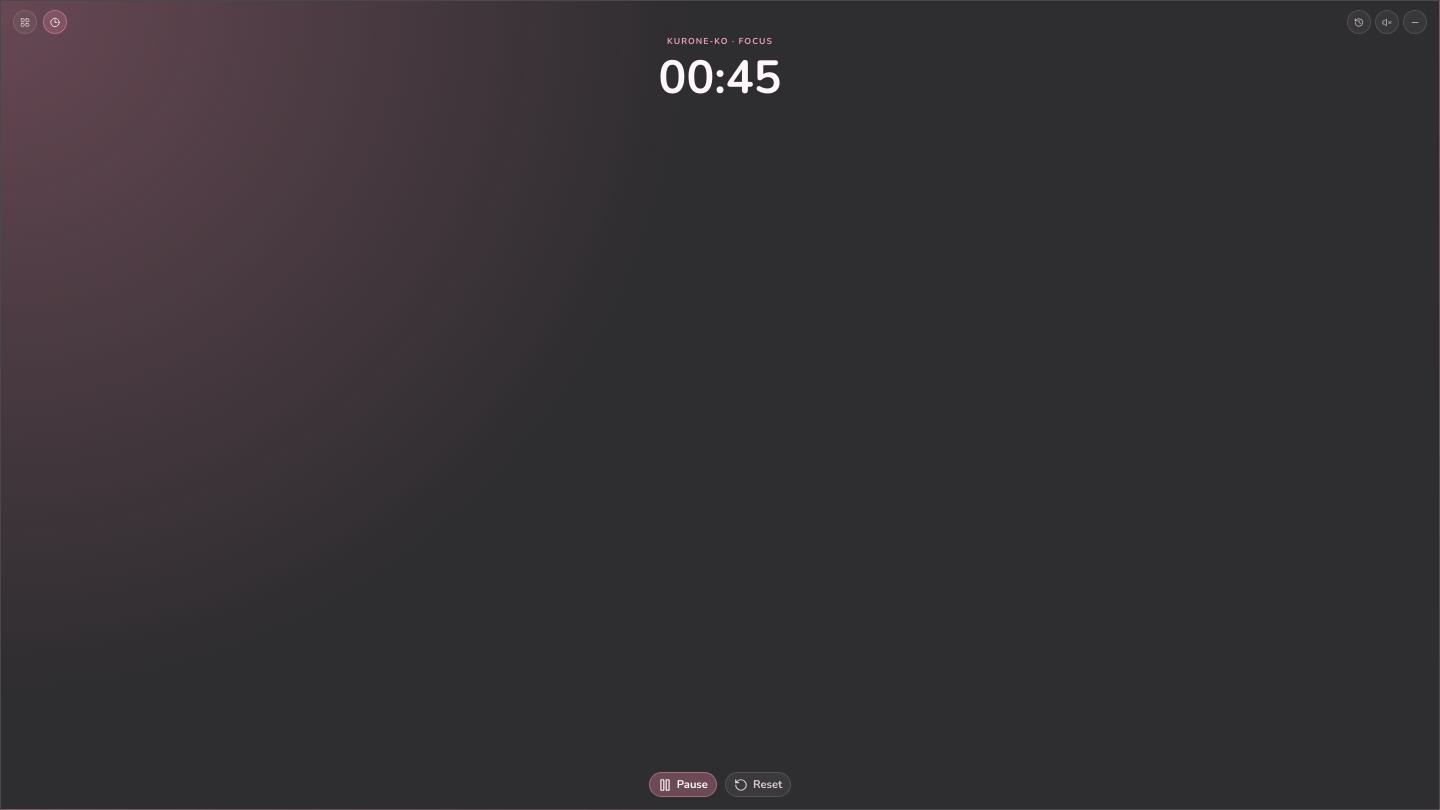
Test: TimerWidget › refreshes latest persisted configuration immediately before resetting a hidden mounted timer
Click the button "Reset".
click(758, 784)  # box 725,772 -> 791,797
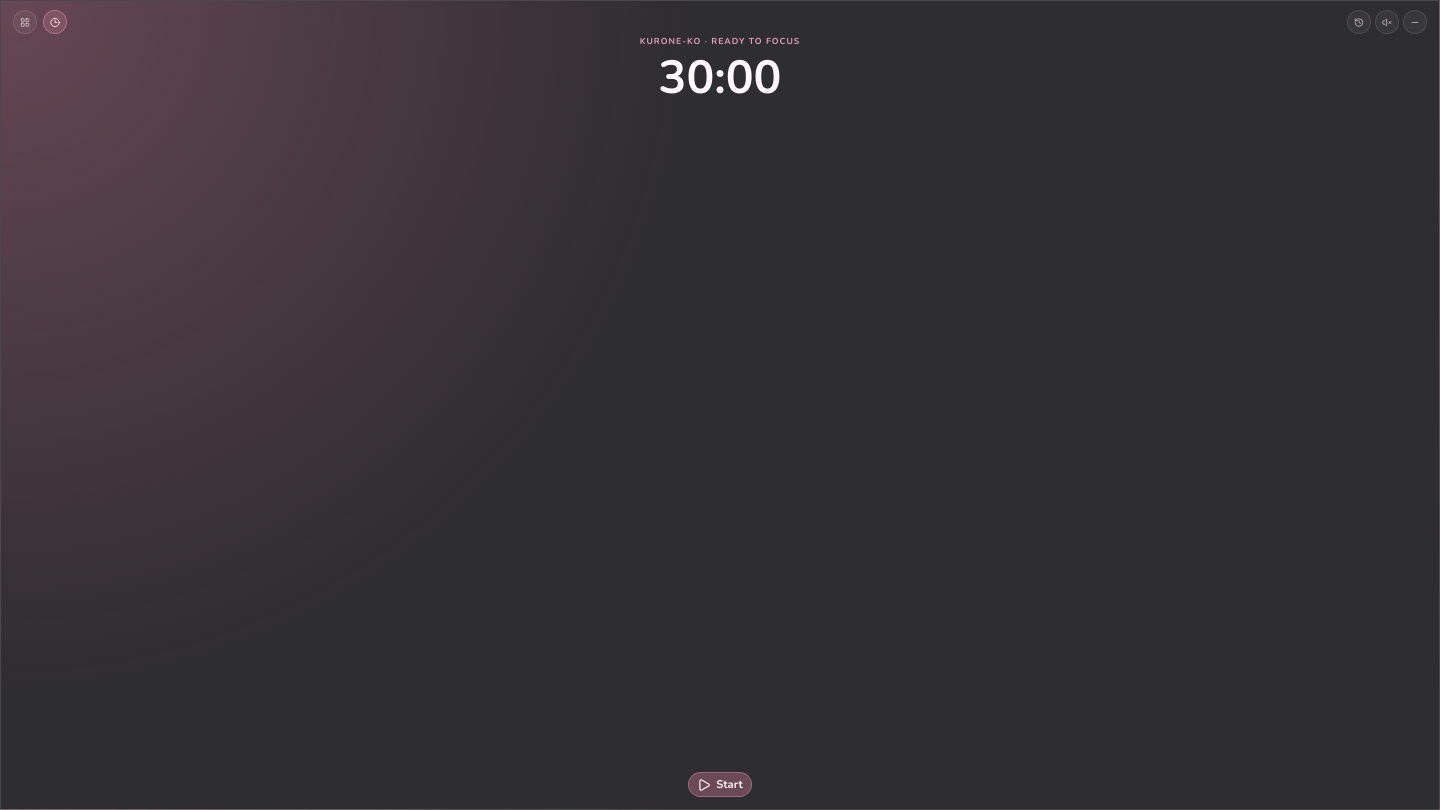
Expected: the heading "30:00" is shown, 659,55 -> 781,101
